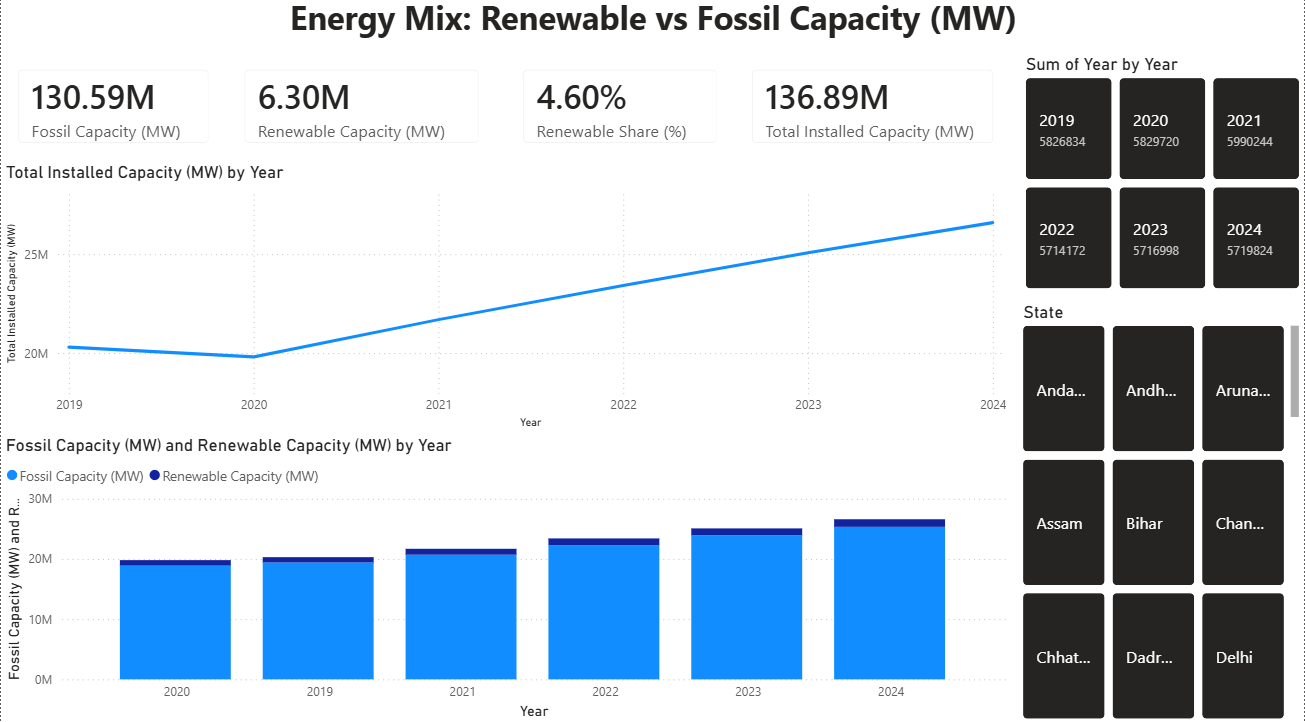

What the dashboard file says about the page in this screenshot:
{"tool":"powerbi","page":{"name":"National Overview","canvas":[1280,720],"ordinal":0},"visuals":[{"type":"lineChart","fields":{"Category":["ENERGY_CAPACITY.Year"],"Y":["ENERGY_CAPACITY.Total Installed Capacity (MW)"]},"box":[0,168.5,991.8,267.1],"z":0},{"type":"columnChart","fields":{"Category":["ENERGY_CAPACITY.Year"],"Y":["ENERGY_CAPACITY.Fossil Capacity (MW)","ENERGY_CAPACITY.Renewable Capacity (MW)"]},"box":[0,436.2,991.3,283.6],"z":1000},{"type":"cardVisual","title":"Fossil Capacity (MW)","fields":{"Data":["ENERGY_CAPACITY.Fossil Capacity (MW)"]},"box":[0,61.6,221.9,106.8],"z":2000},{"type":"cardVisual","fields":{"Data":["ENERGY_CAPACITY.Renewable Capacity (MW)"]},"box":[221.9,61.6,264.4,106.8],"z":3000},{"type":"cardVisual","fields":{"Data":["ENERGY_CAPACITY.Renewable%"]},"box":[495.9,61.6,224.7,106.8],"z":4000},{"type":"cardVisual","fields":{"Data":["ENERGY_CAPACITY.Total Installed Capacity (MW)"]},"box":[720.5,61.6,271.2,106.8],"z":5000},{"type":"advancedSlicerVisual","fields":{"Values":["ENERGY_CAPACITY.State"]},"box":[999.4,305.2,280.9,414.6],"z":6000},{"type":"advancedSlicerVisual","fields":{"Label":["Sum(ENERGY_CAPACITY.Year)"],"Values":["ENERGY_CAPACITY.Year"]},"box":[1000.7,62.1,279.6,236.3],"z":7000},{"type":"textbox","box":[0,0,1280.8,61.6],"z":8000}]}

Visuals, with their boxes in screenshot pixels (x1, y1, x2, y2), scaled from the page's 1280x720 canvas onto the 1305x722 screenshot:
lineChart - ENERGY_CAPACITY.Year x ENERGY_CAPACITY.Total Installed Capacity (MW): <box>0,169,1011,437</box>
columnChart - ENERGY_CAPACITY.Year x ENERGY_CAPACITY.Fossil Capacity (MW): <box>0,437,1011,721</box>
"Fossil Capacity (MW)" cardVisual: <box>0,62,226,169</box>
cardVisual - ENERGY_CAPACITY.Renewable Capacity (MW): <box>226,62,496,169</box>
cardVisual - ENERGY_CAPACITY.Renewable%: <box>506,62,735,169</box>
cardVisual - ENERGY_CAPACITY.Total Installed Capacity (MW): <box>735,62,1011,169</box>
advancedSlicerVisual - ENERGY_CAPACITY.State: <box>1019,306,1304,721</box>
advancedSlicerVisual - Sum(ENERGY_CAPACITY.Year) x ENERGY_CAPACITY.Year: <box>1020,62,1304,299</box>
textbox: <box>0,0,1304,62</box>
